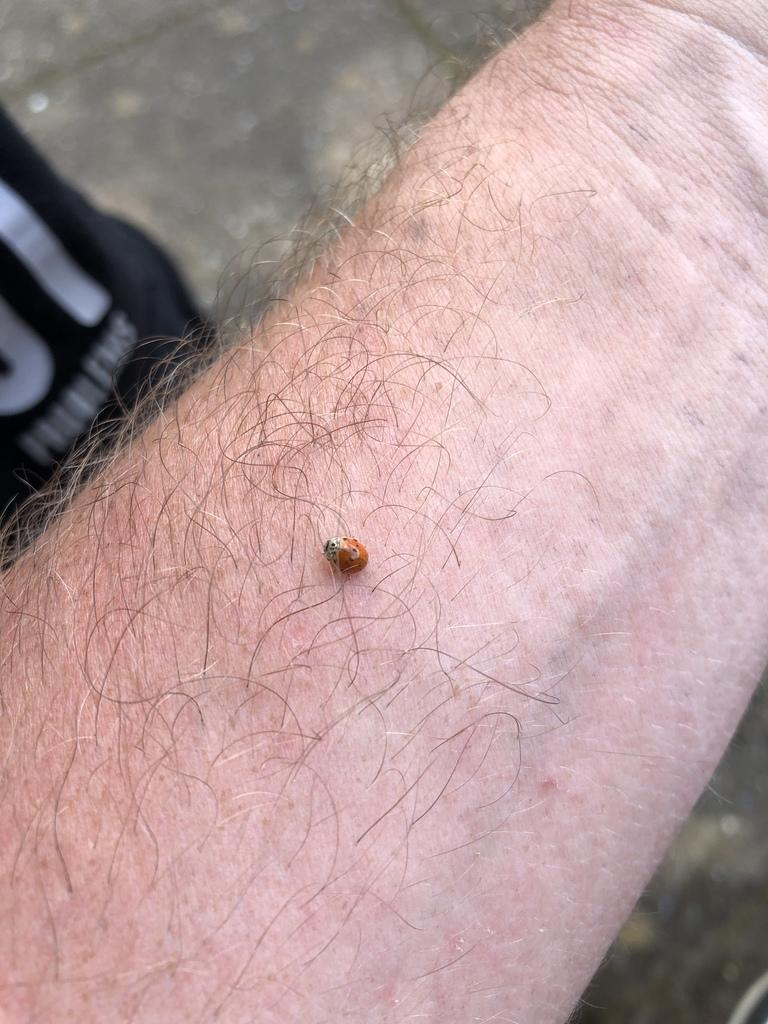ladybug: (323, 535, 373, 580)
